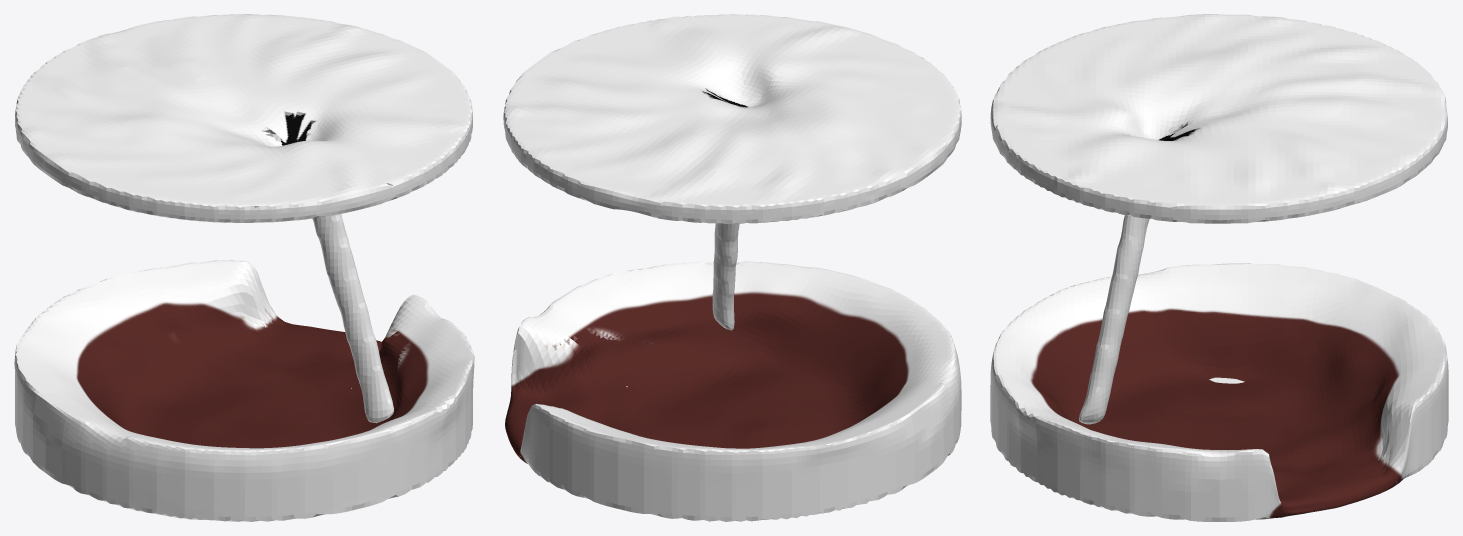
Rendered from deaf_architecture_GLB.glb.
3 views of the same model, side by side, from view 1: azimuth 30°, elevation 25°; view 2: azimuth 150°, elevation 25°; view 3: azimuth 270°, elevation 25° (orthographic).
Visible parts, largest first — view 1: cylinder1, cylinder2_combined.001; view 2: cylinder1, cylinder2_combined.001; view 3: cylinder1, cylinder2_combined.001.
Boxes of the visible parts, left/top/right/bottom form: cylinder1: left=14, top=260, right=474, bottom=521; cylinder2_combined.001: left=15, top=14, right=472, bottom=423; cylinder1: left=505, top=261, right=961, bottom=521; cylinder2_combined.001: left=503, top=14, right=961, bottom=330; cylinder1: left=990, top=263, right=1448, bottom=521; cylinder2_combined.001: left=990, top=14, right=1447, bottom=424.
Bounding box in the file's own units: 2 × 1.56 × 2.
Materials: 2 (2 with a texture image).
